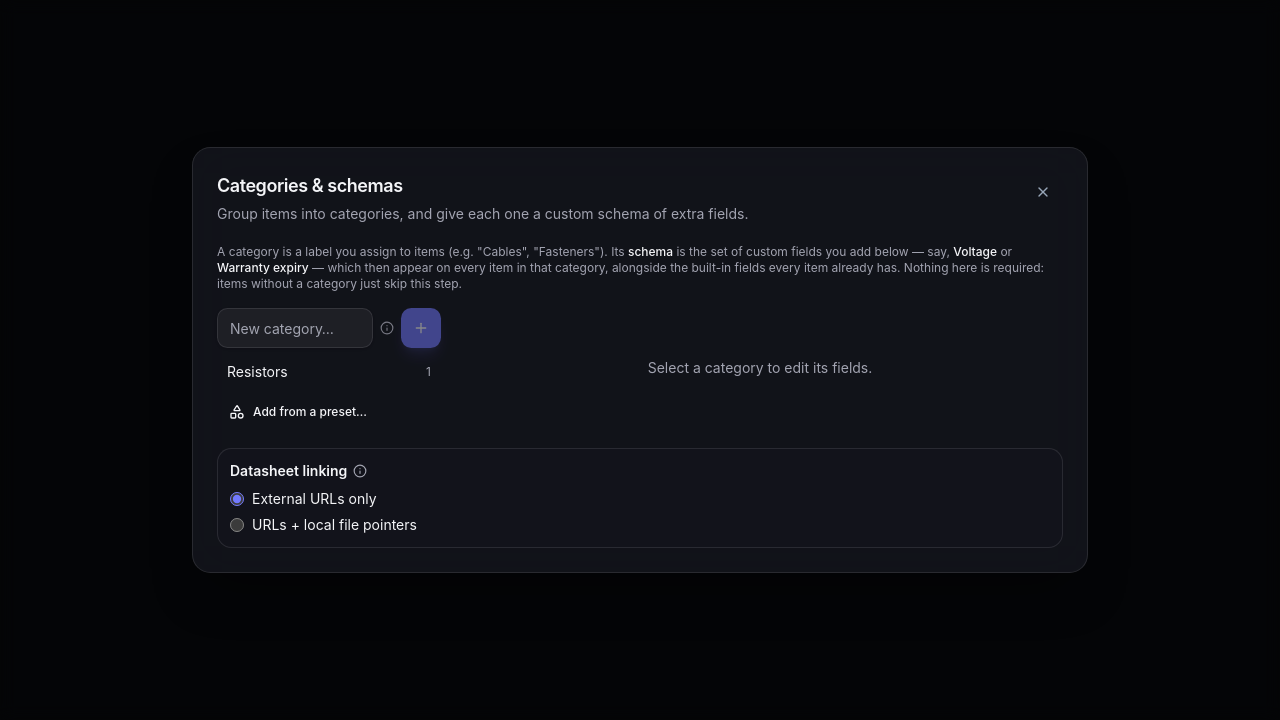
Test: CategoryManagerDialog — the selected-category detail › lists the selected category fields with their type label and required marker
This screenshot has width=1280, height=720.
Click the button "Resistors 1". click: (329, 372)
box: 217,356 -> 441,388
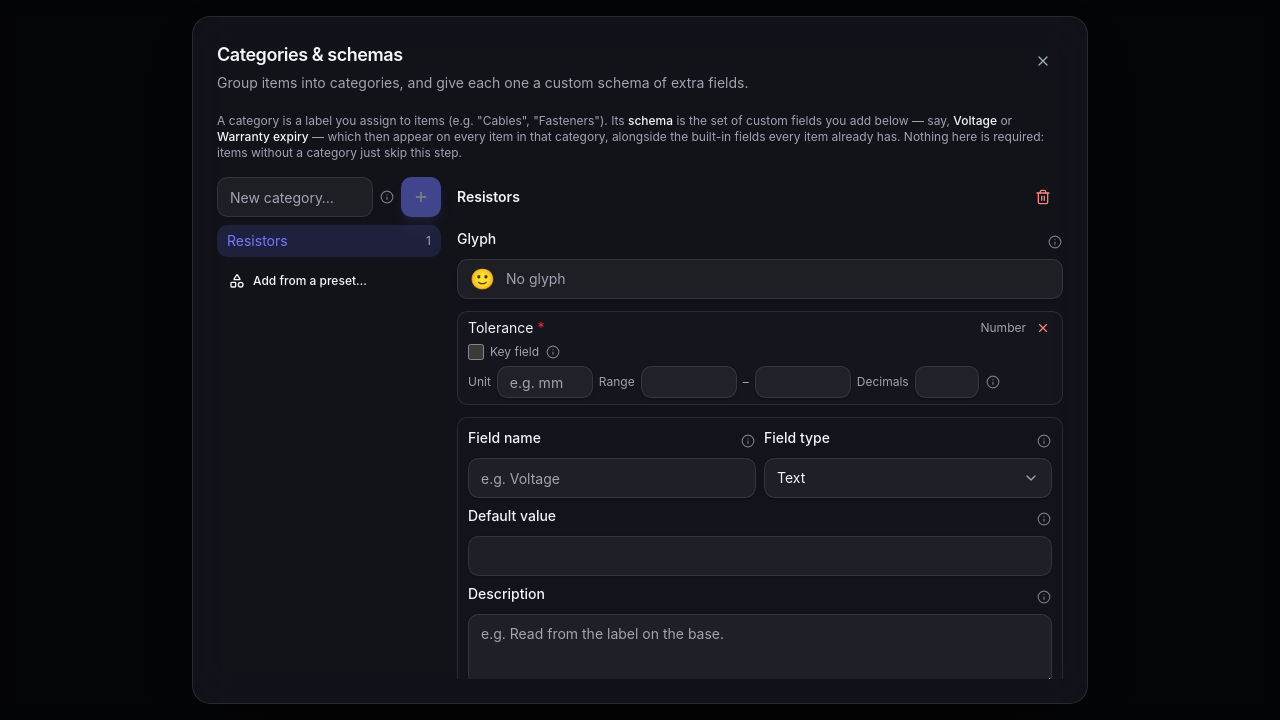
Expected: the text "Tolerance" is shown, 468,319 -> 534,336
Expected: the text "Number" is shown, 980,320 -> 1026,336
Expected: the text "Tolerance" shows "*", 534,319 -> 544,336
